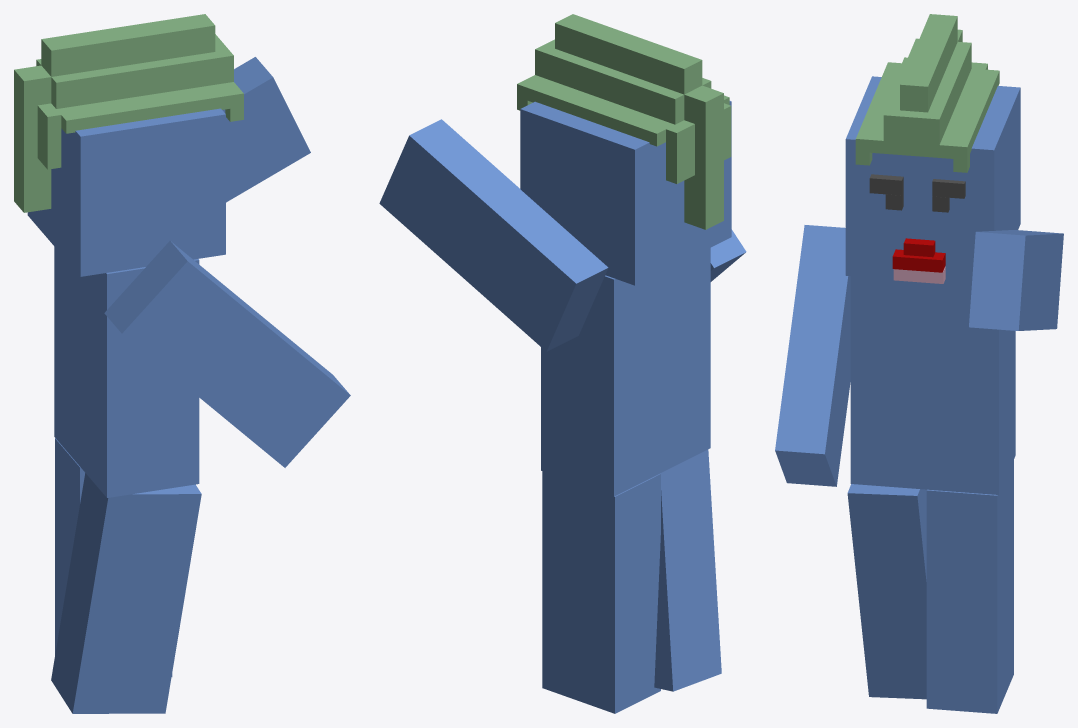
The model's file is fester4.gltf.
The picture shows the model from 3 angles, left to right: view 1: azimuth 30°, elevation 25°; view 2: azimuth 150°, elevation 25°; view 3: azimuth 270°, elevation 25°; orthographic projection. The views are drawn at different scales.
Parts seen in each view (by area): view 1: leg.1, Head, arm.1, body, arm, cube_4, cube_3, cube_2, cube_5, leg, cube_7; view 2: body, leg, arm, Head, leg.1, cube_4, cube_3, cube_5, cube_2, cube_6, arm.1; view 3: body, leg, Head, arm.1 (×2), leg.1, arm (×2), cube_2, cube_3, cube_4, arm.2.
Part boxes in pixels (x1=…): leg.1: x1=51, y1=473, x2=201, y2=713; Head: x1=27, y1=108, x2=225, y2=276; arm.1: x1=104, y1=241, x2=350, y2=467; body: x1=54, y1=247, x2=199, y2=497; arm: x1=222, y1=57, x2=310, y2=202; cube_4: x1=41, y1=14, x2=215, y2=76; cube_3: x1=36, y1=34, x2=233, y2=108; cube_2: x1=56, y1=82, x2=243, y2=133; cube_5: x1=14, y1=65, x2=51, y2=212; leg: x1=55, y1=438, x2=172, y2=676; cube_7: x1=37, y1=103, x2=61, y2=169; body: x1=541, y1=248, x2=710, y2=496; leg: x1=542, y1=471, x2=660, y2=713; arm: x1=379, y1=119, x2=608, y2=351; Head: x1=520, y1=101, x2=731, y2=285; leg.1: x1=654, y1=449, x2=721, y2=691; cube_4: x1=555, y1=14, x2=702, y2=94; cube_3: x1=535, y1=39, x2=711, y2=124; cube_5: x1=684, y1=85, x2=723, y2=229; cube_2: x1=517, y1=75, x2=729, y2=146; cube_6: x1=666, y1=120, x2=694, y2=183; arm.1: x1=710, y1=229, x2=746, y2=281; body: x1=850, y1=276, x2=1015, y2=494; leg: x1=926, y1=460, x2=1013, y2=713; Head: x1=845, y1=76, x2=1020, y2=285; arm.1 (×2): x1=775, y1=225, x2=945, y2=486; leg.1: x1=847, y1=484, x2=926, y2=699; arm (×2): x1=893, y1=230, x2=1063, y2=330; cube_2: x1=855, y1=62, x2=999, y2=159; cube_3: x1=883, y1=38, x2=971, y2=144; cube_4: x1=900, y1=14, x2=957, y2=112; arm.2: x1=903, y1=238, x2=935, y2=257.
Bounding box in the file's own units: 1.55 × 3.13 × 1.27.
